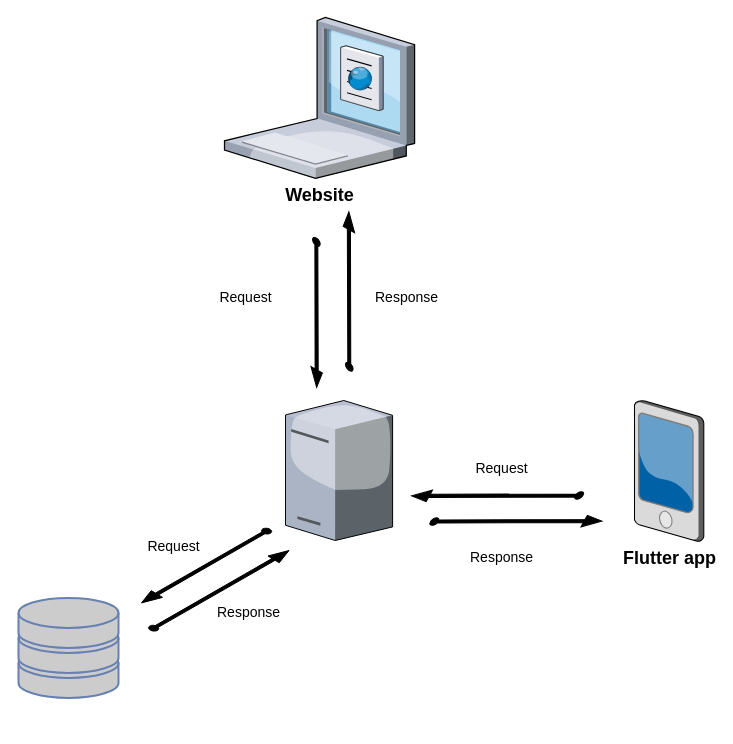
The diagram is 733 pixels wide and 744 high, and some of its shapes have lost their labels. Here are the shapes that lost their labels. From the top down, the centre of each, then its label:
At point 338,470: "API".
At point 68,647: "Database".
